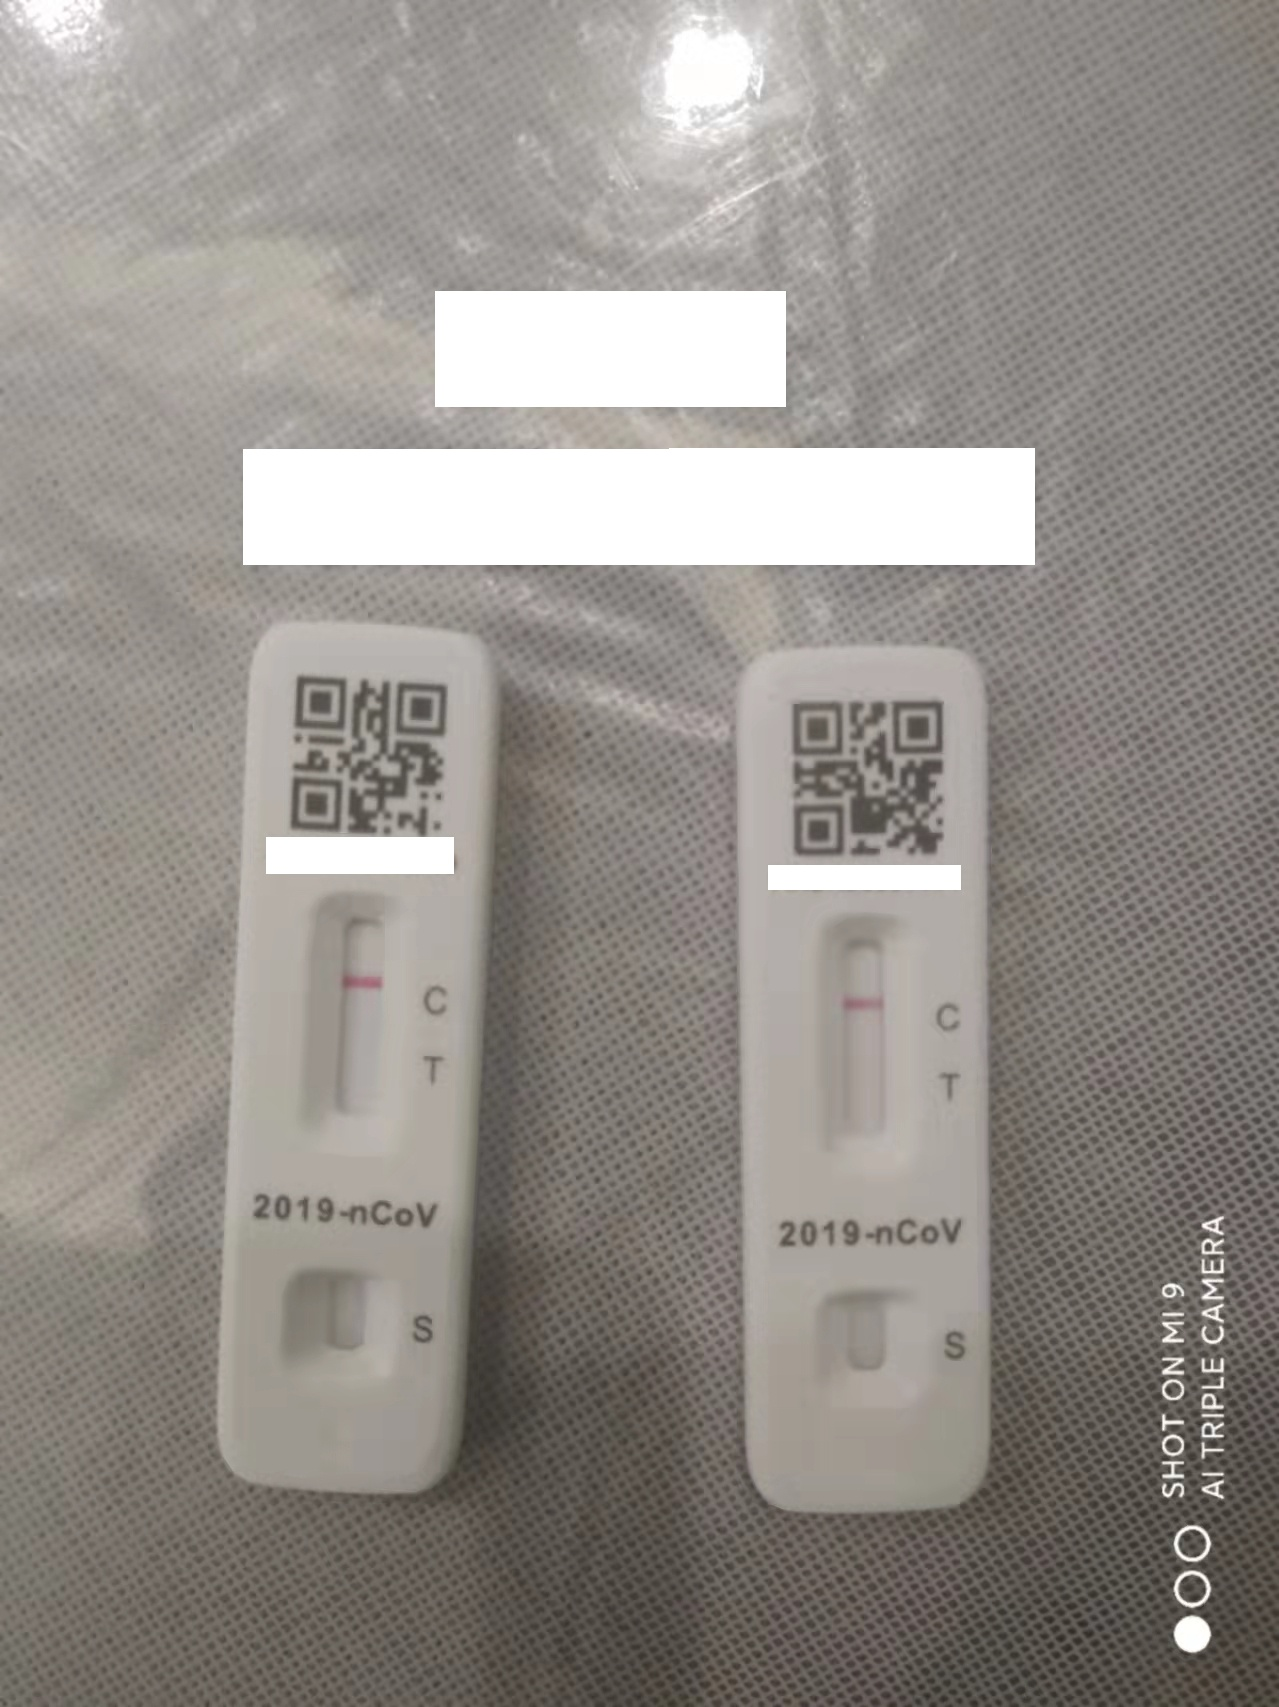negative: (815, 920, 918, 1150), (305, 898, 404, 1131)
